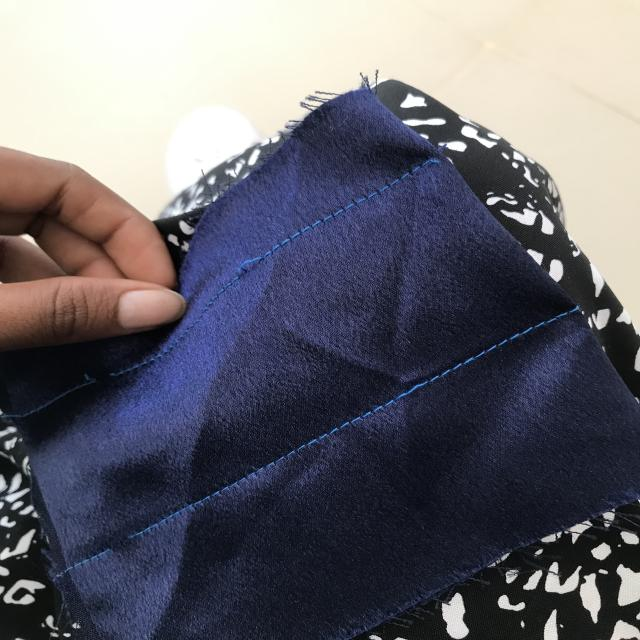broken: (86, 520, 168, 564), (74, 365, 134, 389)
skip: (222, 247, 284, 288)
